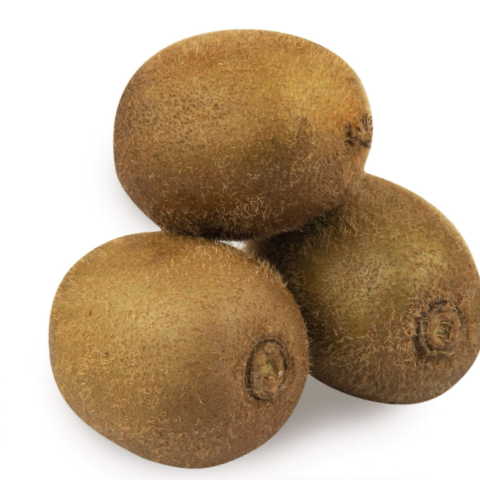kiwi: (18, 192, 349, 480), (72, 1, 390, 264), (226, 162, 480, 451)
